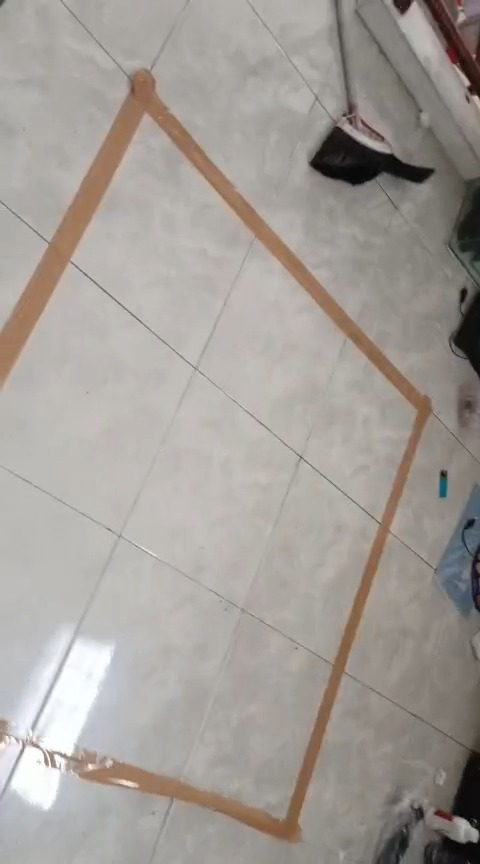floor marking: (0, 69, 431, 839)
